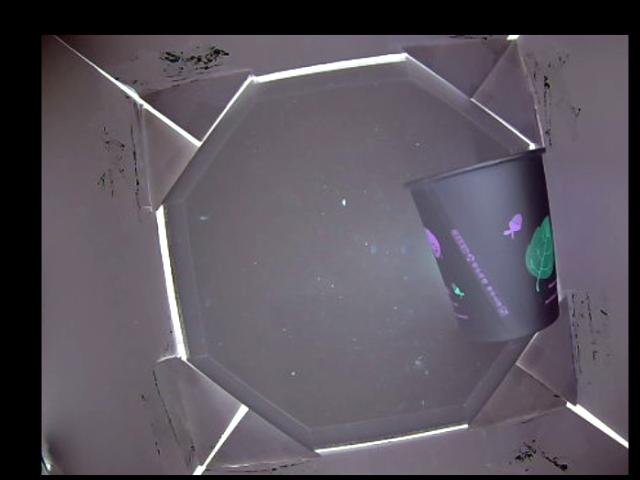Cup: (407, 145, 562, 337)
